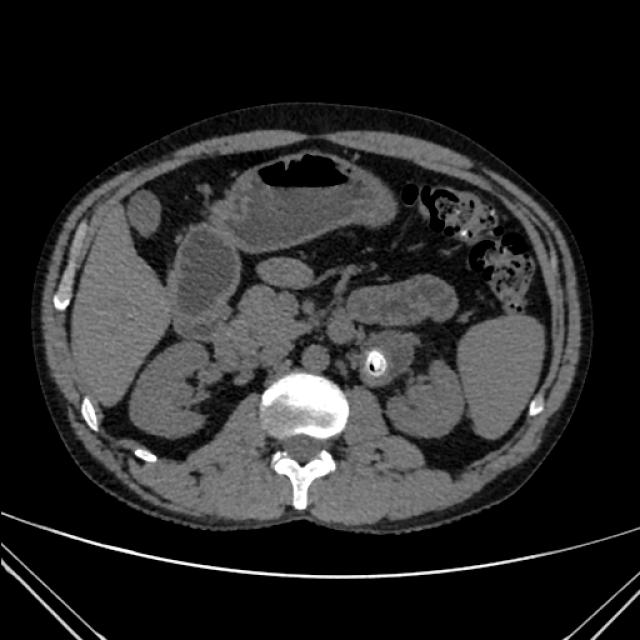kidneystone: (360, 334, 394, 387)
